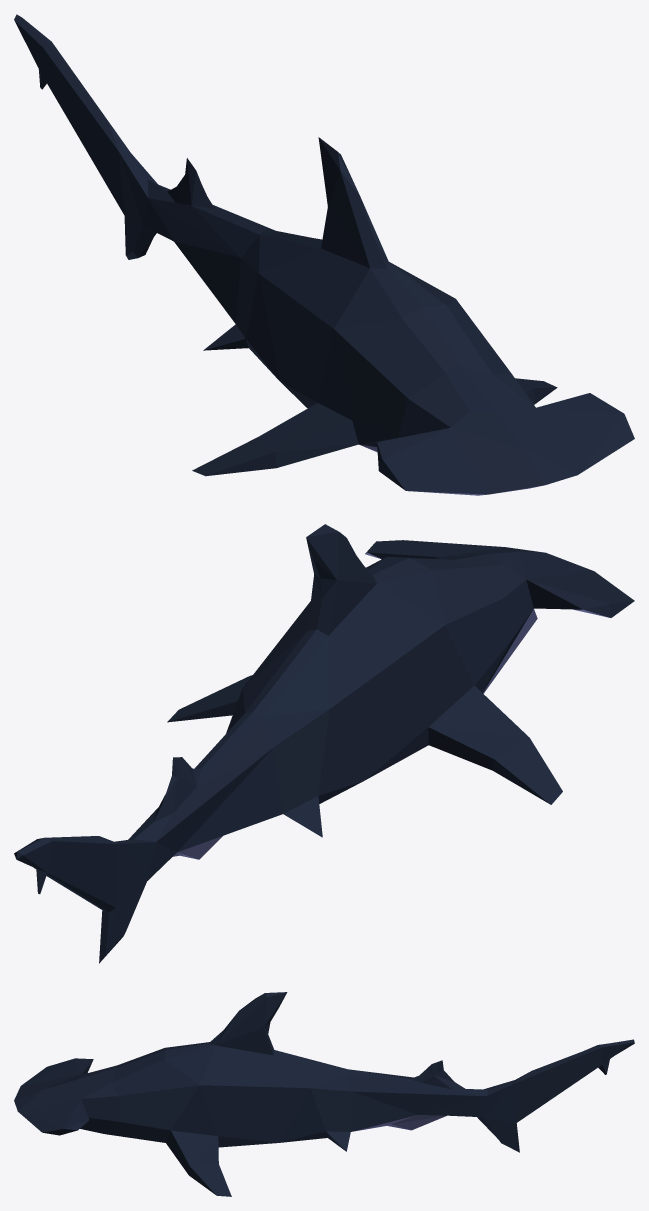
Rendered from uploads_files_2454911_Hammerhead.obj.
3 renders of one model, top to bottom at view 1: azimuth 30°, elevation 25°; view 2: azimuth 150°, elevation 25°; view 3: azimuth 270°, elevation 25°, orthographic. The views are drawn at different scales.
Parts seen in each view (by area): view 1: Hammerhead_HammerHeadMesh; view 2: Hammerhead_HammerHeadMesh; view 3: Hammerhead_HammerHeadMesh.
Boxes of the visible parts, left/top/right/bottom form: Hammerhead_HammerHeadMesh: left=14, top=14, right=634, bottom=495; Hammerhead_HammerHeadMesh: left=14, top=524, right=634, bottom=963; Hammerhead_HammerHeadMesh: left=14, top=992, right=634, bottom=1196.
Size of the model in its own units: 3.8 by 2.68 by 9.44.
